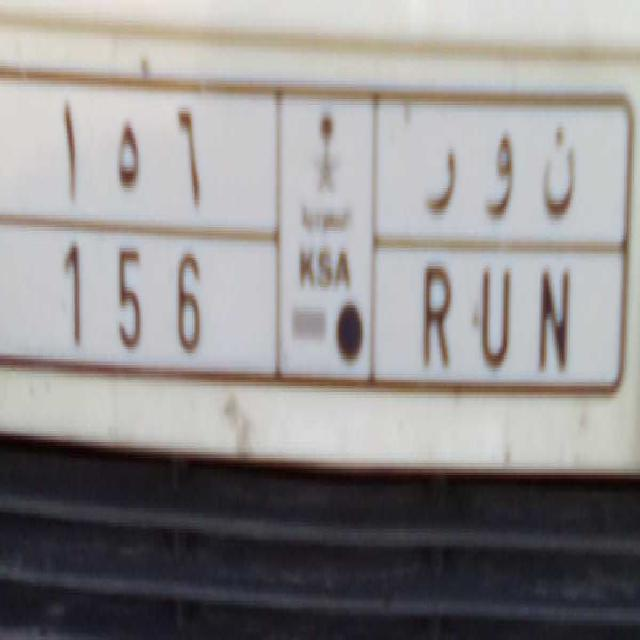license_plate: (15, 222, 598, 411)
